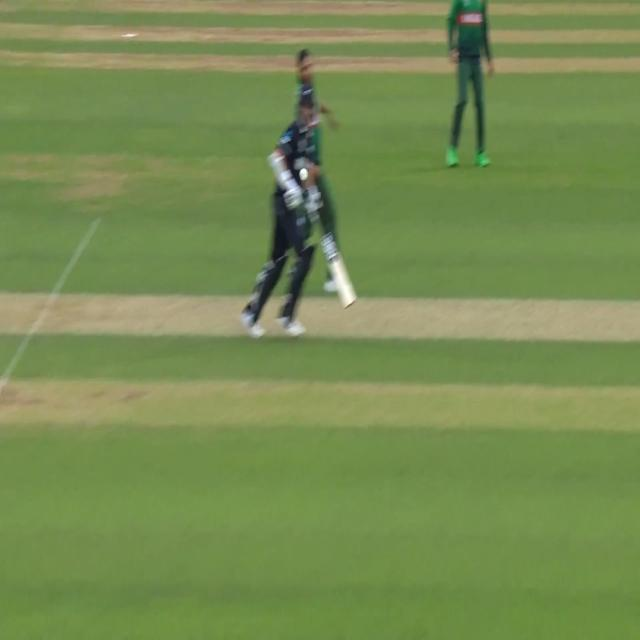ball: (297, 162, 310, 188)
